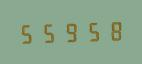eight: (102, 18, 122, 42)
five: (18, 21, 38, 45), (39, 21, 59, 44), (81, 19, 101, 42)
nine: (60, 20, 80, 43)
